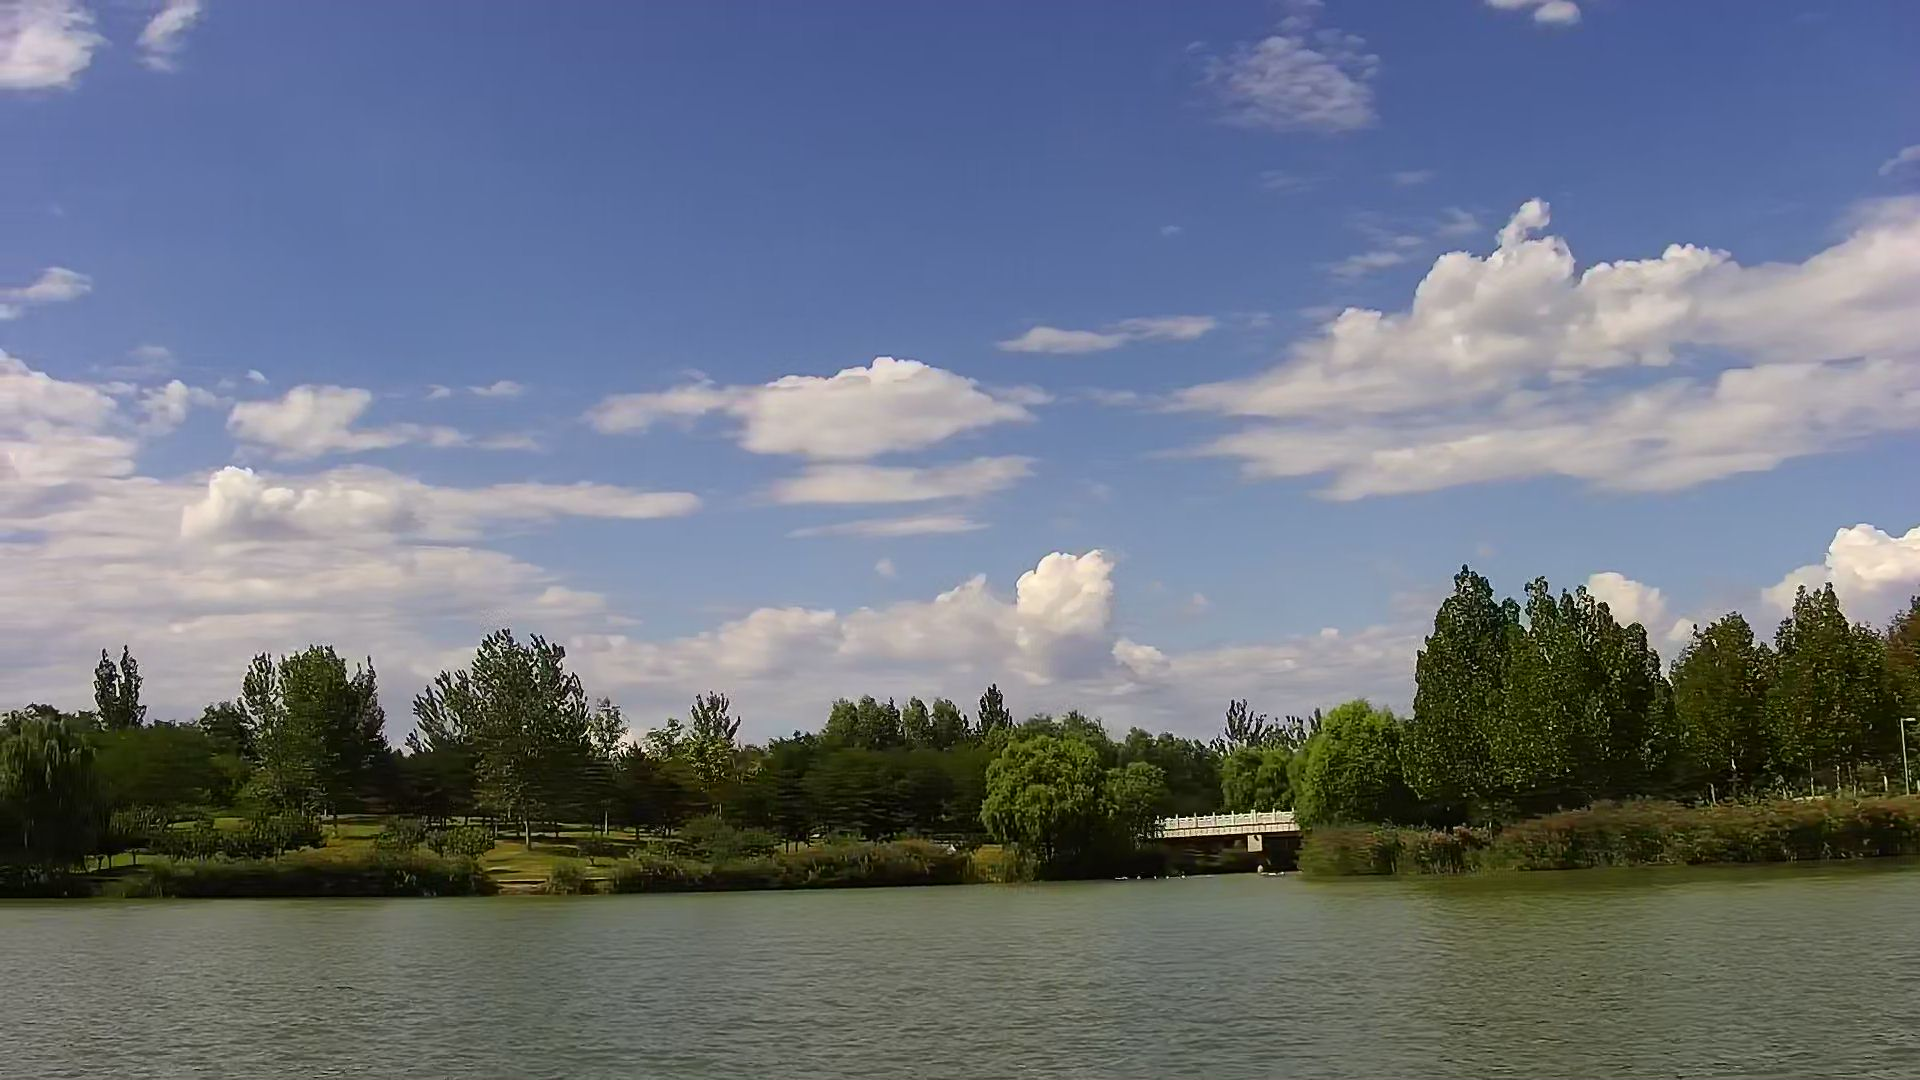bridge: (1158, 806, 1298, 873)
